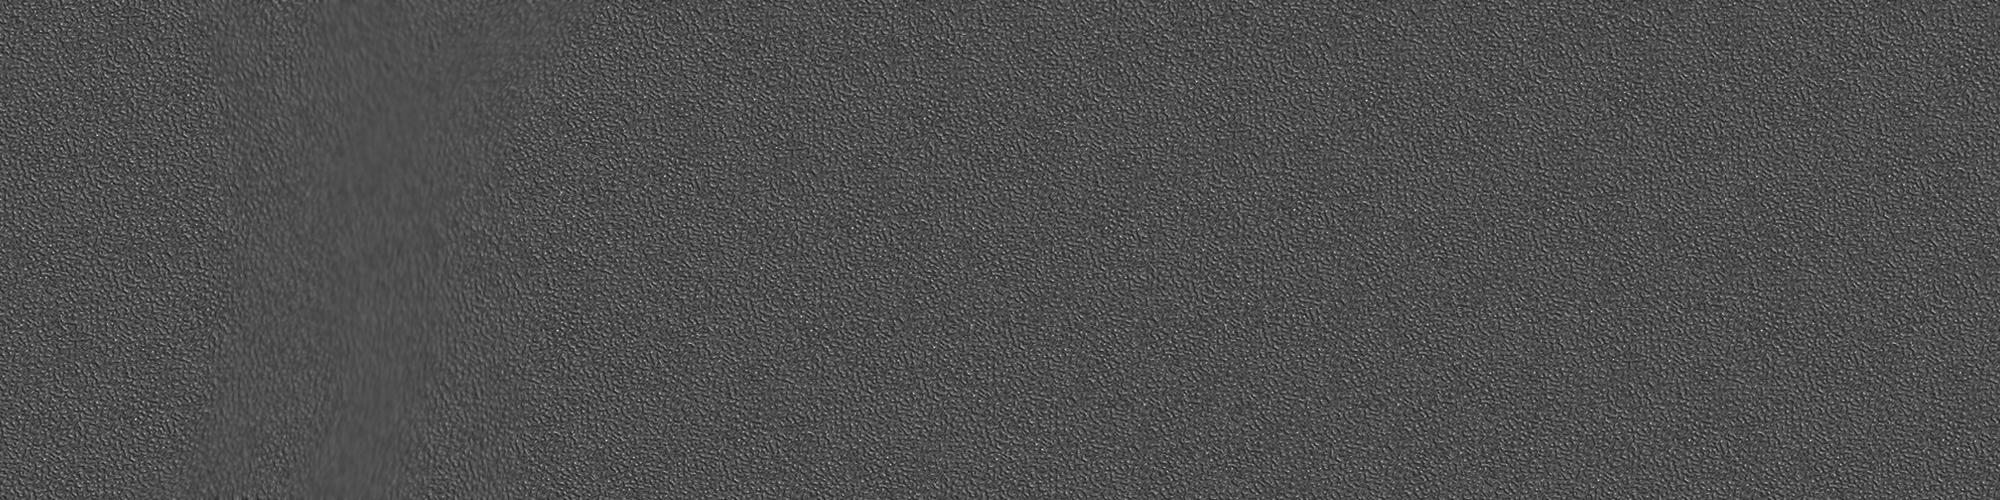Flow_Lines: (187, 10, 452, 495)
